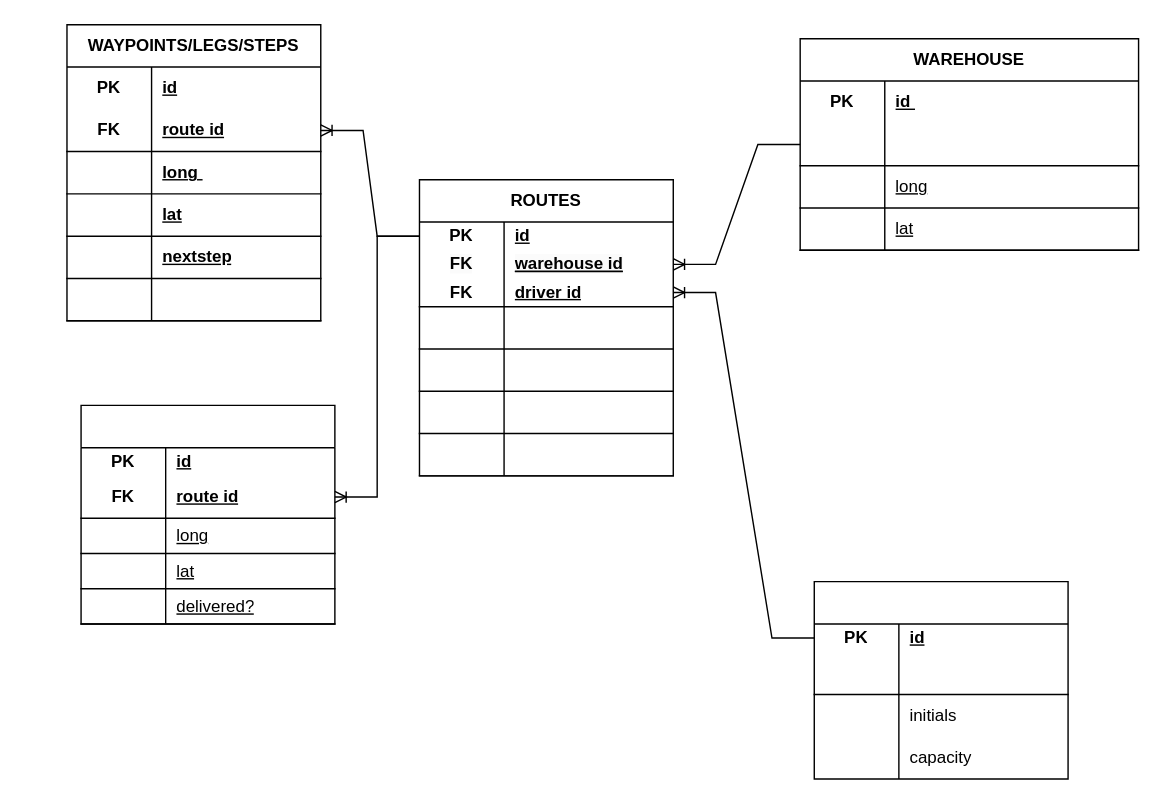
Some shapes in this 1163 by 804 pixel diagram are drawn without their labels. Each missing label, with the box of its shape:
DELIVERY ADDRESSES: (80, 404, 335, 624)
DRIVERS: (813, 580, 1068, 779)
